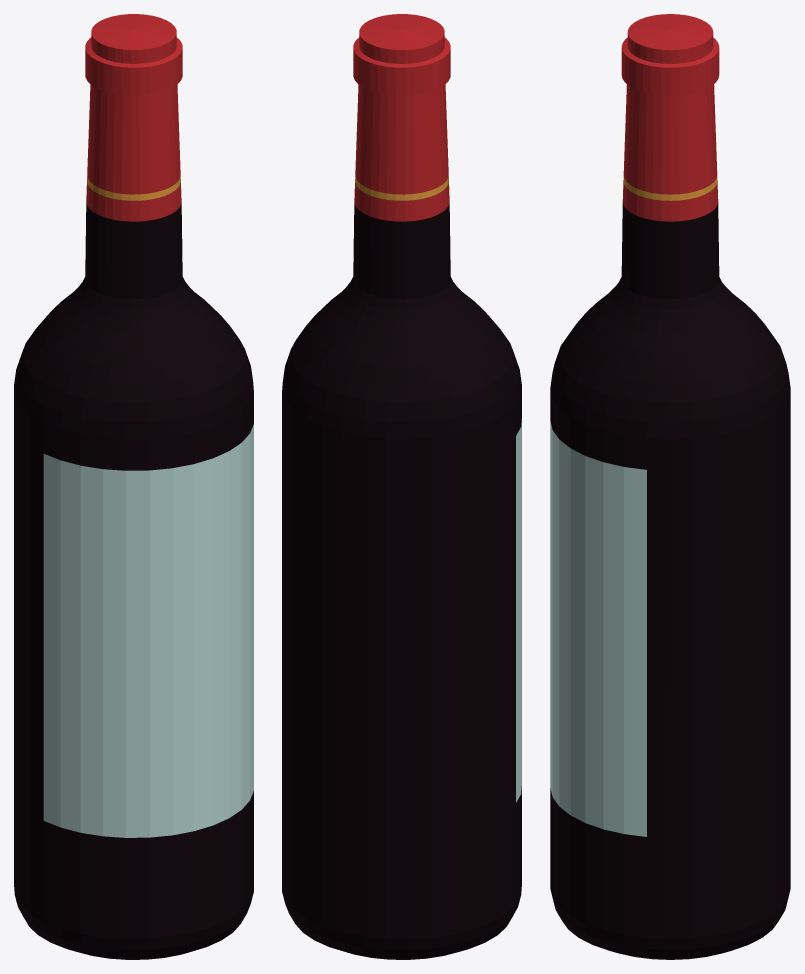
Rendered from bouteil de vin .fbx.
3 views of the same model, side by side, from view 1: azimuth 30°, elevation 25°; view 2: azimuth 150°, elevation 25°; view 3: azimuth 270°, elevation 25° (orthographic).
Visible parts, largest first — view 1: Cylinder; view 2: Cylinder; view 3: Cylinder.
Boxes of the visible parts, <box> form: Cylinder: <box>14,14,253,959</box>; Cylinder: <box>282,14,521,959</box>; Cylinder: <box>550,14,790,959</box>.
Bounding box in the file's own units: 7.46 × 30.64 × 7.46.
